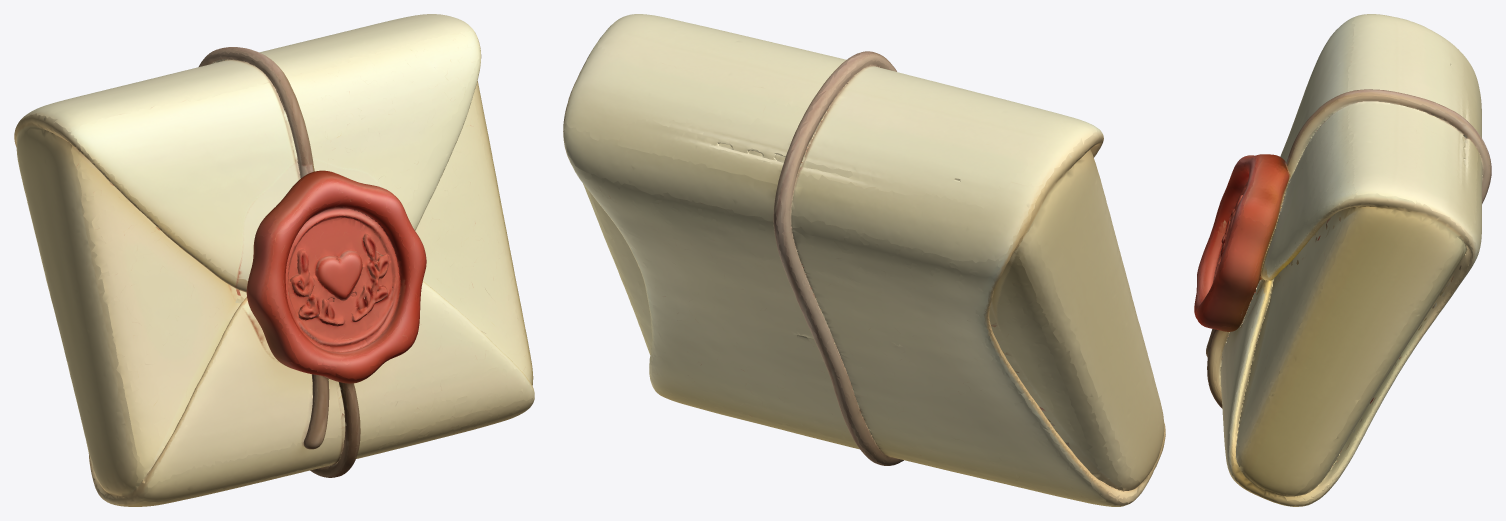
Rendered from prp_letter.glb.
3 views of the same model, side by side, from view 1: azimuth 30°, elevation 25°; view 2: azimuth 150°, elevation 25°; view 3: azimuth 270°, elevation 25° (orthographic). The views are drawn at different scales.
Parts seen in each view (by area): view 1: geometry_0; view 2: geometry_0; view 3: geometry_0.
Part boxes in pixels (x1,y1,x2,y2): geometry_0: (14,14,534,506); geometry_0: (563,14,1165,506); geometry_0: (1194,14,1491,506).
Bounding box in the file's own units: 0.16 × 0.139 × 0.1103.
Materials: 1 (1 with a texture image).
